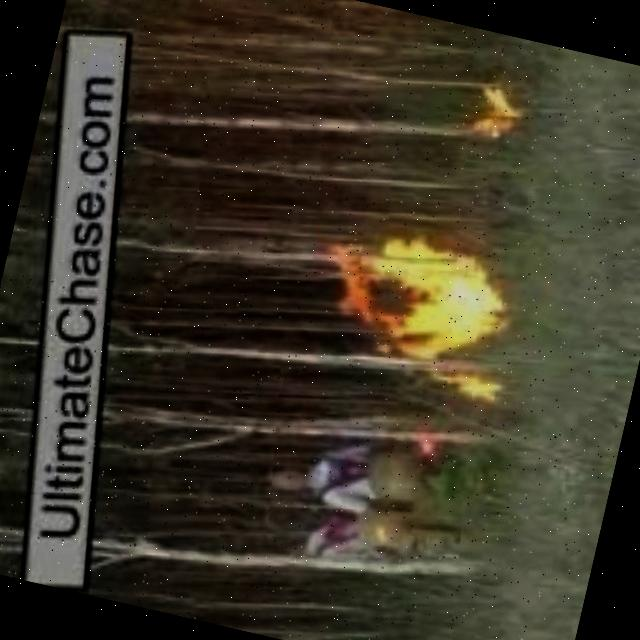fire: (310, 209, 526, 400), (470, 91, 530, 149)
